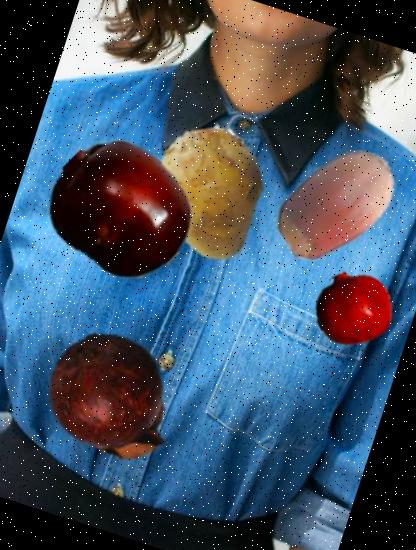Cherry: (31, 120, 212, 300)
Hazelnut: (255, 118, 416, 284)
Mangostan: (21, 312, 192, 484)
Pomegranate: (304, 259, 401, 356)
Potato: (120, 104, 298, 282)
